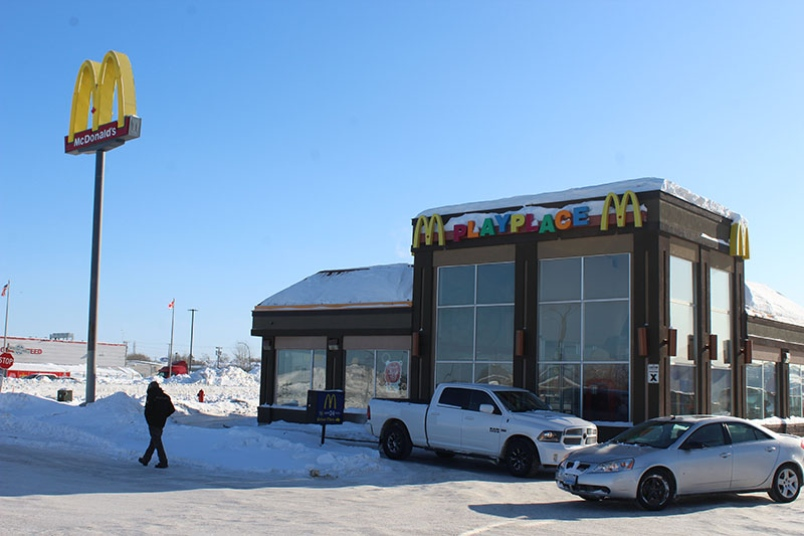mcdonalds: (62, 46, 137, 143), (594, 187, 639, 227), (411, 206, 442, 250)
